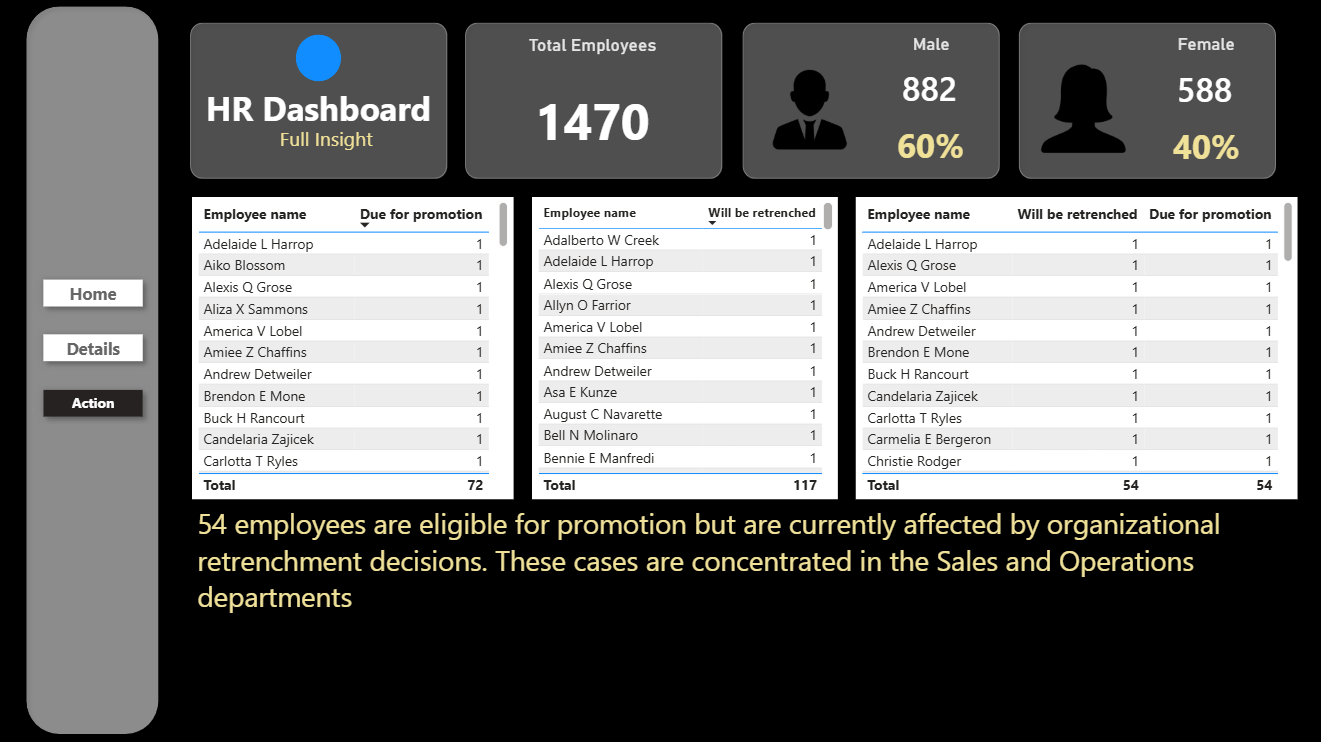

The dashboard page shown, as its layout file describes it:
{"tool":"powerbi","page":{"name":"Action","canvas":[1280,720],"ordinal":2},"visuals":[{"type":"shape","box":[19.2,0,145.5,720.4],"z":0,"group":"g1"},{"type":"shape","box":[177,15.1,266.2,168.8],"z":0},{"type":"textbox","box":[188,81,244.3,56.3],"z":1000},{"type":"shape","box":[443.2,15.1,266.2,168.8],"z":2000},{"type":"shape","box":[710.8,15.1,266.2,168.8],"z":3000},{"type":"shape","box":[977,15.1,266.2,168.8],"z":4000},{"type":"shape","box":[288.2,35.7,43.9,45.3],"z":5000},{"type":"textbox","box":[238.8,119.4,157.8,37],"z":6000},{"type":"cardVisual","title":"Total Employees","fields":{"Data":["new measures.Total Emp"]},"box":[458.4,36.2,232.8,126.7],"z":7000},{"type":"cardVisual","title":"Male","fields":{"Data":["new measures.Male"]},"box":[844.5,35,114.6,84.5],"z":8000},{"type":"cardVisual","fields":{"Data":["new measures.% Male"]},"box":[832.9,108.4,137.2,64.5],"z":9000},{"type":"image","box":[745.6,66.4,77.2,84.5],"z":10000},{"type":"cardVisual","title":"Female","fields":{"Data":["new measures.Female"]},"box":[1109.9,35,114.6,85.7],"z":11000},{"type":"image","box":[1003.8,47.1,89.3,121.9],"z":12000},{"type":"cardVisual","fields":{"Data":["new measures.% Female"]},"box":[1100.5,109.8,134.5,64.5],"z":13000},{"type":"tableEx","fields":{"Values":["HR employee data.Employee name","new measures.Due for promotion"]},"box":[188,193.5,310.1,292.3],"z":14000},{"type":"tableEx","fields":{"Values":["HR employee data.Employee name","new measures.Will be retrenched"]},"box":[516,193.5,295,292.3],"z":15000},{"type":"group","id":"g1","title":"Group 1","box":[19.2,0,145.5,720.4],"z":16000},{"type":"tableEx","fields":{"Values":["HR employee data.Employee name","new measures.Will be retrenched","new measures.Due for promotion"]},"box":[828.8,193.5,426.8,292.3],"z":17000},{"type":"textbox","box":[188.3,485.2,1066.9,191.9],"z":18000},{"type":"pageNavigator","box":[35.8,264.6,113.2,150.2],"z":19000}]}

Visuals, with their boxes in screenshot pixels (x1, y1, x2, y2), scaled from the page's 1280x720 canvas onto the 1321x742 screenshot:
shape: {"x1": 20, "y1": 0, "x2": 170, "y2": 741}
shape: {"x1": 183, "y1": 16, "x2": 457, "y2": 190}
textbox: {"x1": 194, "y1": 83, "x2": 446, "y2": 141}
shape: {"x1": 457, "y1": 16, "x2": 732, "y2": 190}
shape: {"x1": 734, "y1": 16, "x2": 1008, "y2": 190}
shape: {"x1": 1008, "y1": 16, "x2": 1283, "y2": 190}
shape: {"x1": 297, "y1": 37, "x2": 343, "y2": 83}
textbox: {"x1": 246, "y1": 123, "x2": 409, "y2": 161}
"Total Employees" cardVisual: {"x1": 473, "y1": 37, "x2": 713, "y2": 168}
"Male" cardVisual: {"x1": 872, "y1": 36, "x2": 990, "y2": 123}
cardVisual - new measures.% Male: {"x1": 860, "y1": 112, "x2": 1001, "y2": 178}
image: {"x1": 769, "y1": 68, "x2": 849, "y2": 156}
"Female" cardVisual: {"x1": 1145, "y1": 36, "x2": 1264, "y2": 124}
image: {"x1": 1036, "y1": 49, "x2": 1128, "y2": 174}
cardVisual - new measures.% Female: {"x1": 1136, "y1": 113, "x2": 1275, "y2": 180}
tableEx - HR employee data.Employee name x new measures.Due for promotion: {"x1": 194, "y1": 199, "x2": 514, "y2": 501}
tableEx - HR employee data.Employee name x new measures.Will be retrenched: {"x1": 533, "y1": 199, "x2": 837, "y2": 501}
"Group 1" group: {"x1": 20, "y1": 0, "x2": 170, "y2": 741}
tableEx - HR employee data.Employee name x new measures.Will be retrenched: {"x1": 855, "y1": 199, "x2": 1296, "y2": 501}
textbox: {"x1": 194, "y1": 500, "x2": 1295, "y2": 698}
pageNavigator: {"x1": 37, "y1": 273, "x2": 154, "y2": 427}
